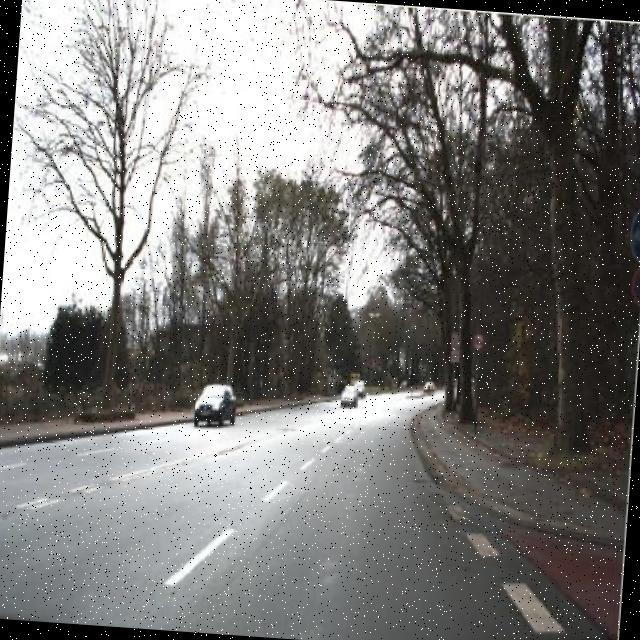Zakaz wyprzedzania: (471, 330, 487, 355)
